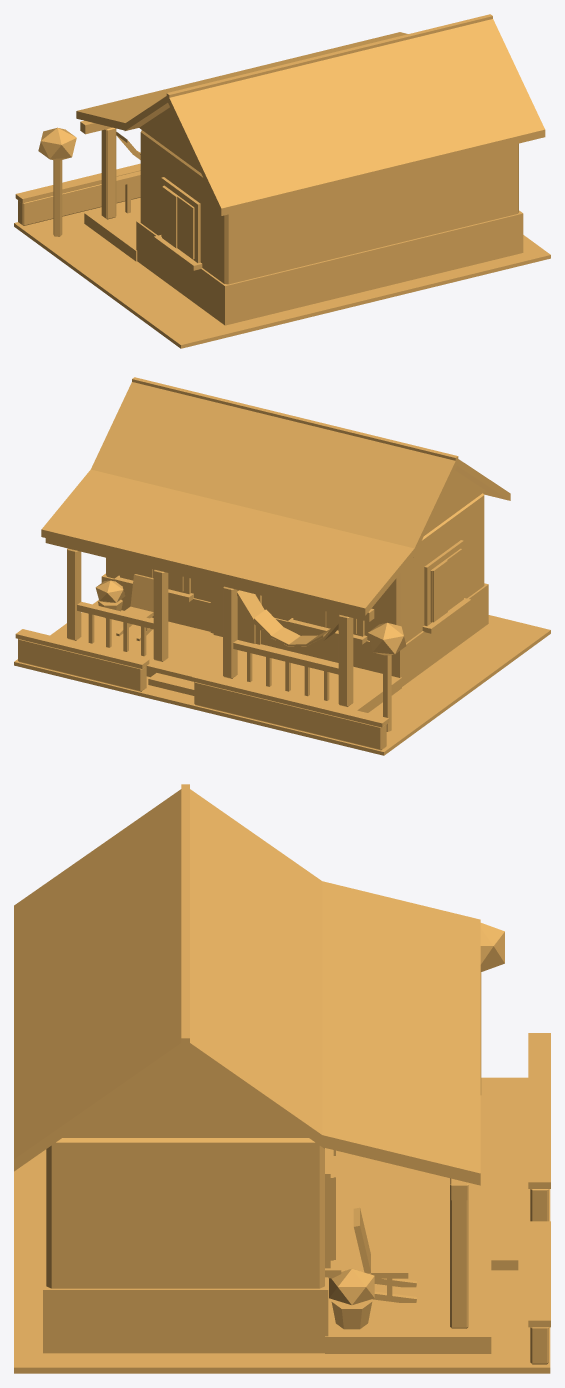
3 views of the same model, one above another, from view 1: azimuth 30°, elevation 25°; view 2: azimuth 150°, elevation 25°; view 3: azimuth 270°, elevation 25° (orthographic). The views are drawn at different scales.
Visible parts, largest first — view 1: corpo; view 2: corpo; view 3: corpo.
Boxes of the visible parts, x1=… form: corpo: x1=14, y1=14, x2=550, y2=348; corpo: x1=14, y1=377, x2=550, y2=755; corpo: x1=14, y1=784, x2=550, y2=1373.
Bounding box in the file's own units: 1.28 × 0.68 × 1.
